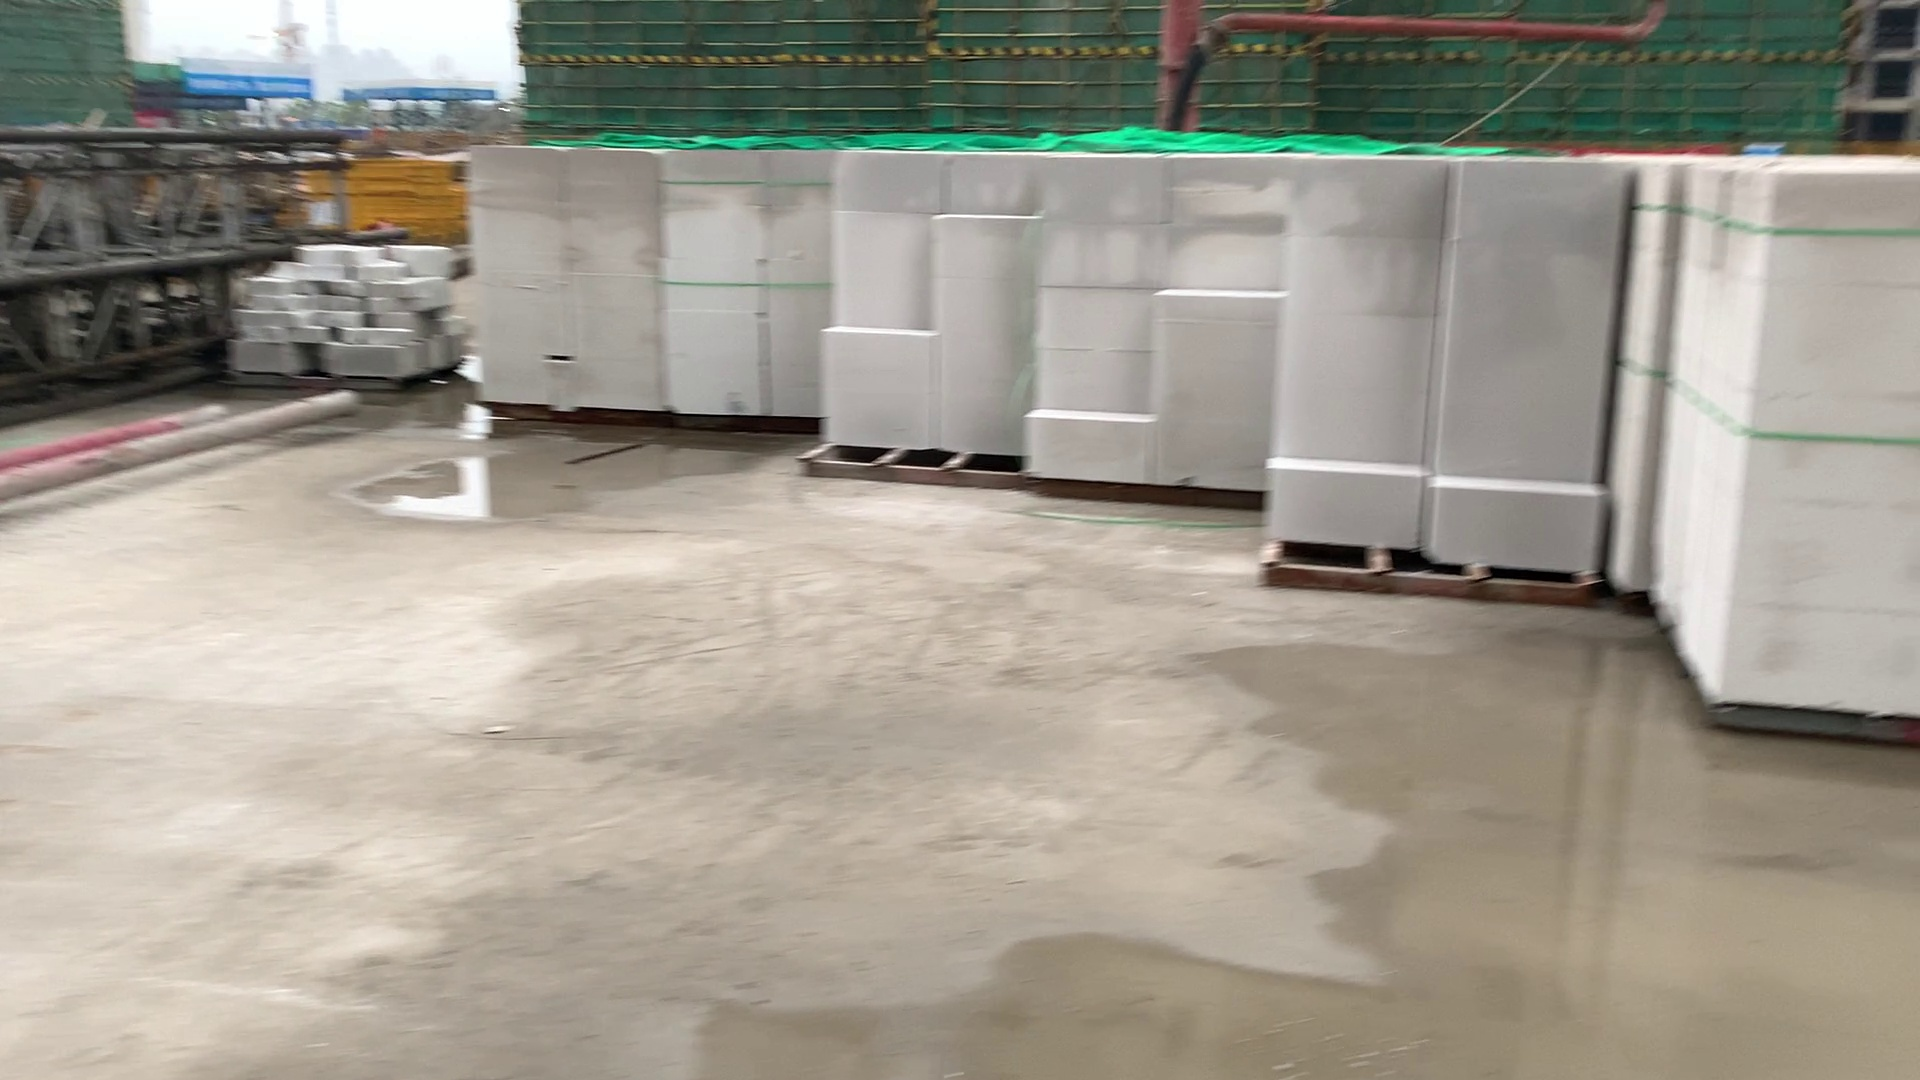brickwork: (1270, 156, 1606, 556), (1677, 173, 1920, 728), (1038, 156, 1269, 496), (839, 156, 1026, 465), (462, 142, 657, 415), (659, 152, 825, 418), (1614, 175, 1665, 574)
